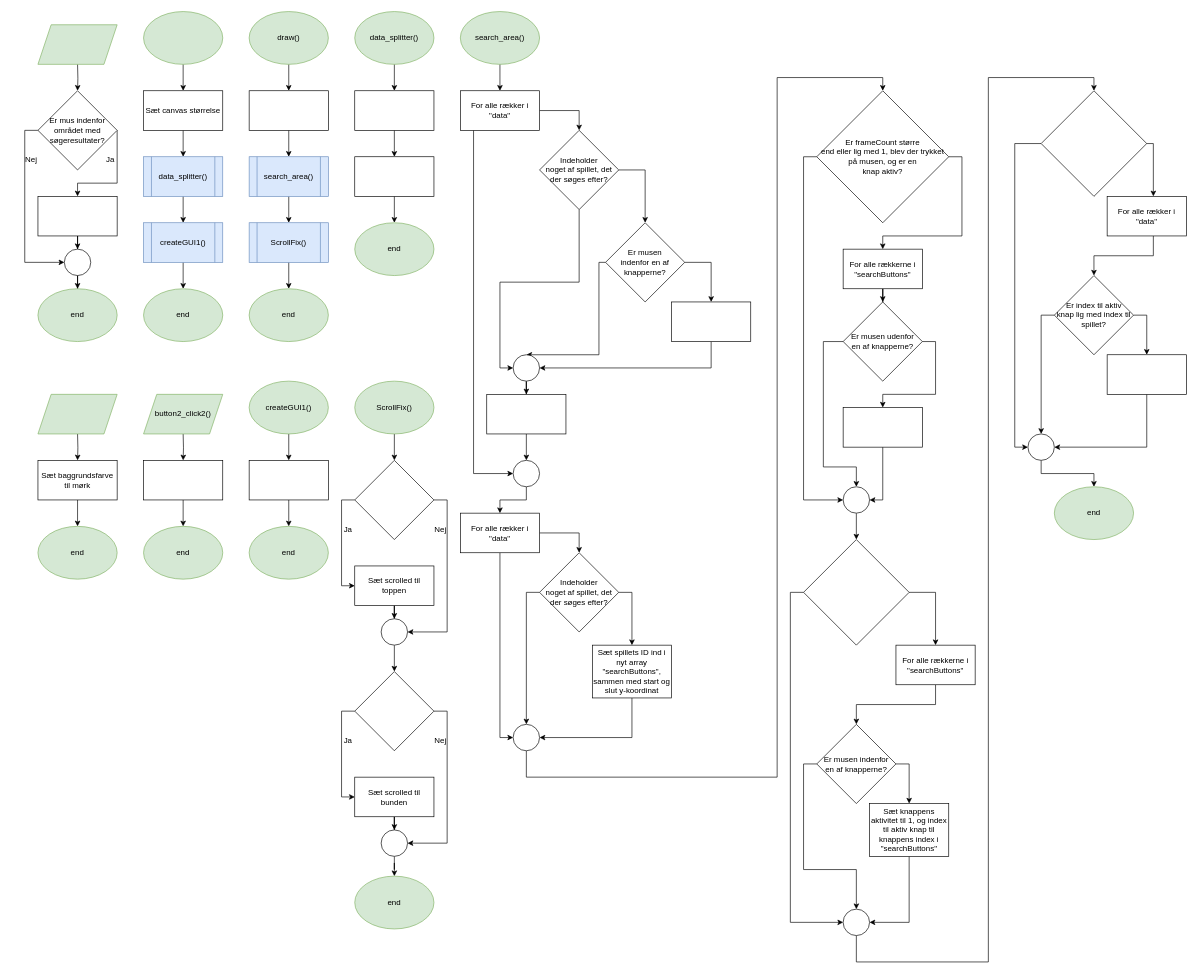
Image size: 1198x979. Some labels were removed from this diagram. Each missing label, with the box of its shape:
button1_click1(): (37, 394, 117, 434)
Del alle elementer ind i 2d arrayet "data": (354, 156, 434, 196)
Er frameCount på mindst1, og er musen blevet trykket?: (803, 539, 909, 645)
Er index til aktiv knap på andet end -1, og er frameCount på mindst 1?: (1040, 90, 1147, 196)
Er søgeresultaterne scrolled højere end toppen?: (354, 460, 434, 540)
Er søgeresultaterne scrolled lavere end bunden?: (354, 671, 434, 751)
Lav GUI: (248, 460, 328, 500)
Load filen "Games.txt": (354, 90, 434, 130)
mouseWheel(): (37, 24, 117, 64)
Placer spillets navn i søgeresultatslisten: (486, 394, 566, 434)
Scroll op/ned afhængig af scroll-retning: (37, 196, 117, 236)
setup(): (143, 11, 223, 64)
Sæt baggrund: (248, 90, 328, 130)
Sæt baggrundsfarve til mørkegrå: (143, 460, 223, 500)
Sæt index til aktiv knap til fra: (842, 407, 922, 447)
Vis infopanelet til spillet: (1106, 354, 1186, 394)
Ændrer tekstfeltets farve: (671, 301, 751, 342)
